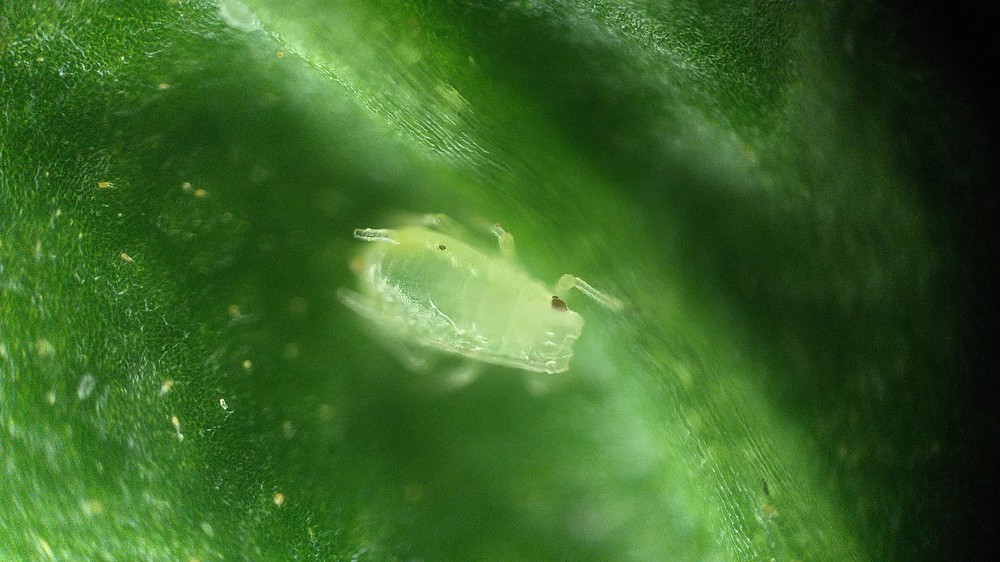Pulgon: (309, 195, 662, 439)
